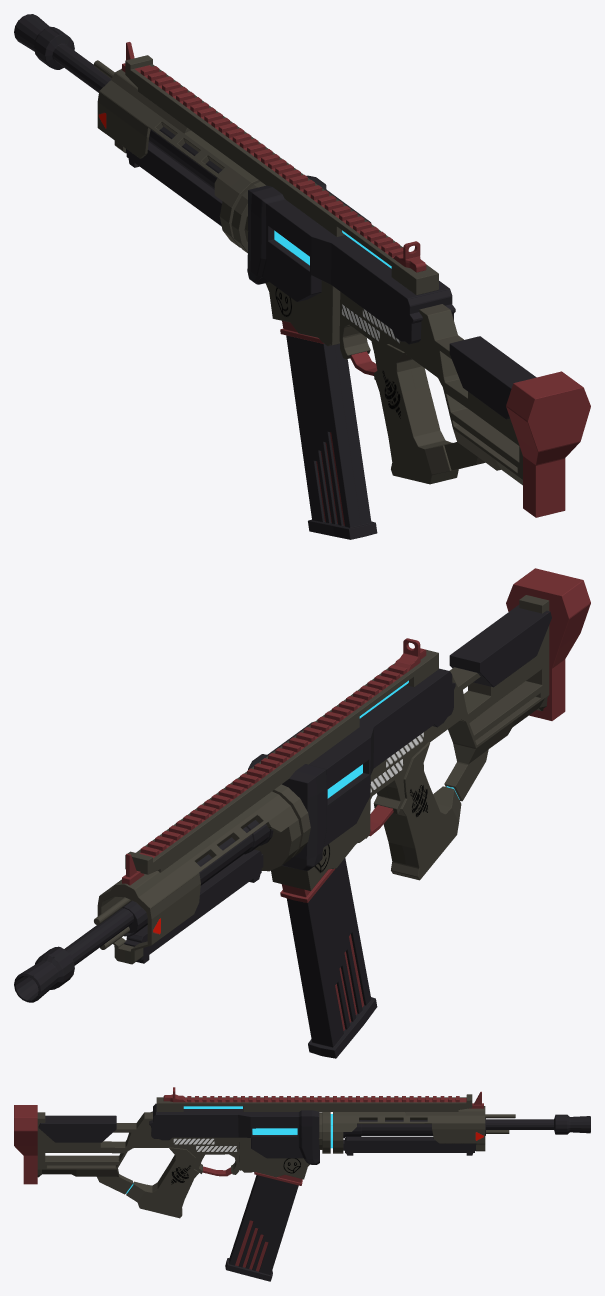
File: near_future_assault_rifle.glb
The picture shows the model from 3 angles, top to bottom: view 1: azimuth 30°, elevation 25°; view 2: azimuth 150°, elevation 25°; view 3: azimuth 270°, elevation 25°; orthographic projection. The views are drawn at different scales.
Visible parts, largest first — view 1: Cube.002; view 2: Cube.002; view 3: Cube.002.
Part boxes in pixels (box(x1,y1,x2,y2)): Cube.002: box(14, 14, 590, 539); Cube.002: box(14, 568, 590, 1058); Cube.002: box(14, 1087, 590, 1281).
Size of the model in its own units: 0.3264 by 1.51 by 4.16.
1 material, 1 textured.
